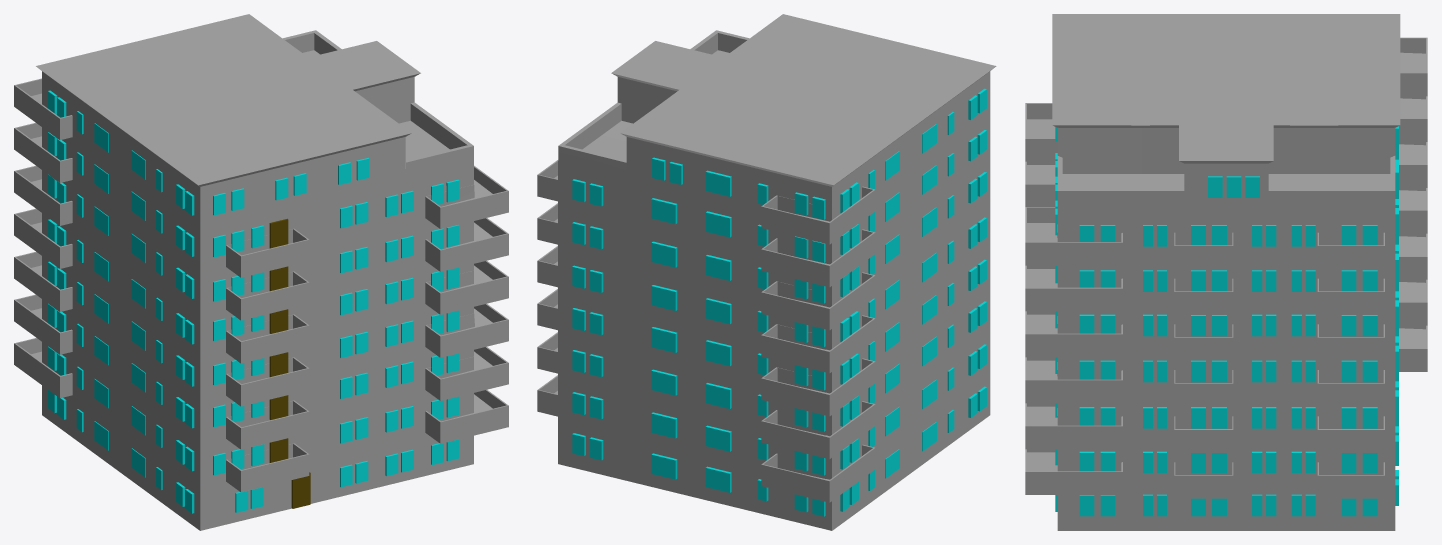
File: appartmentTwo.fbx
The picture shows the model from 3 angles, left to right: view 1: azimuth 30°, elevation 25°; view 2: azimuth 150°, elevation 25°; view 3: azimuth 270°, elevation 25°; orthographic projection. The views are drawn at different scales.
Visible parts, largest first — view 1: appartmentTwo; view 2: appartmentTwo; view 3: appartmentTwo.
Boxes of the visible parts, x1,y1,x2,y2 form: appartmentTwo: [14, 14, 508, 530]; appartmentTwo: [537, 14, 996, 530]; appartmentTwo: [1025, 14, 1427, 530].
Size of the model in its own units: 23.43 by 24.96 by 24.48.
